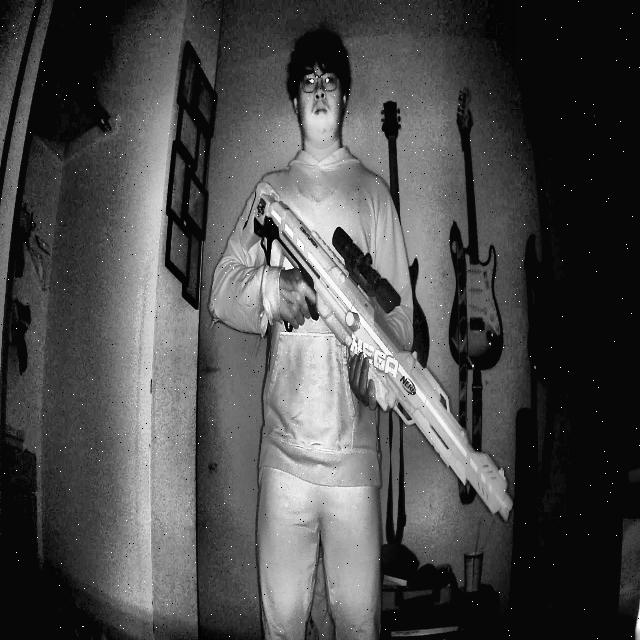Nerf_Blaster: (232, 152, 526, 554)
